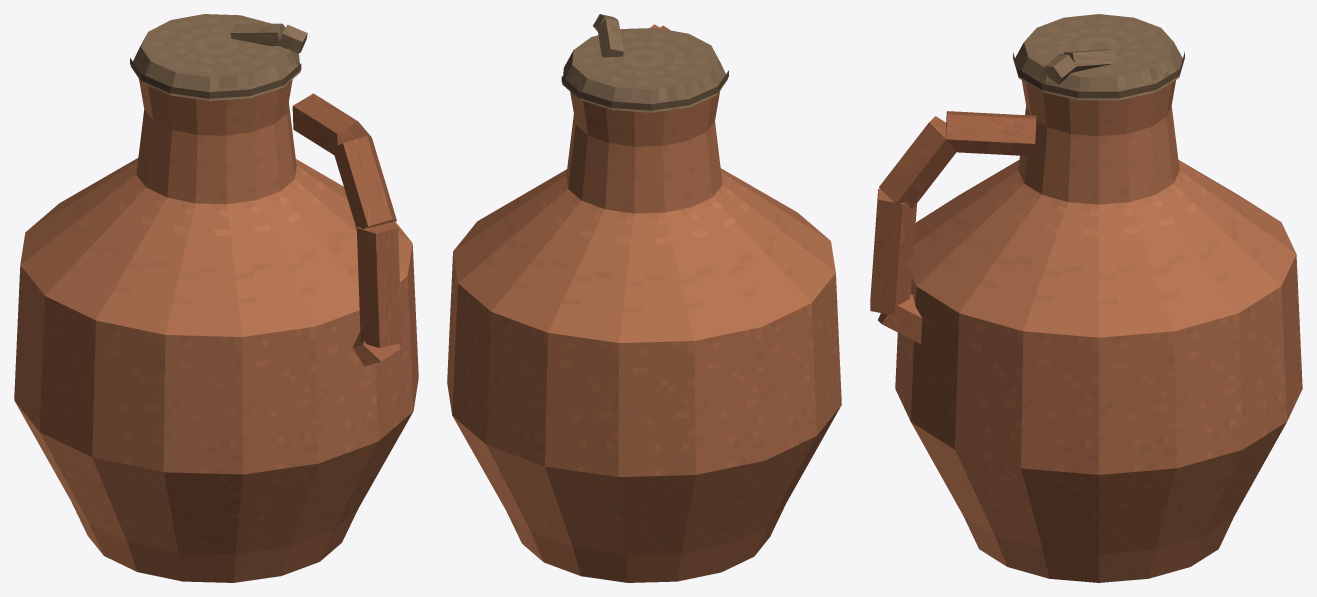
The model's file is jug_clay.glb.
3 renders of one model, left to right at view 1: azimuth 30°, elevation 25°; view 2: azimuth 150°, elevation 25°; view 3: azimuth 270°, elevation 25°, orthographic. The views are drawn at different scales.
Visible parts, largest first — view 1: block_thrown clay shoulders, block_tied waterproof hide cover, block_vertical pouring handle 2, block_vertical pouring handle 1, block_vertical pouring handle 0, block_hide binding cord, block_folded lid tab 0, block_vertical pouring handle 3, block_folded lid tab 1; view 2: block_thrown clay shoulders, block_tied waterproof hide cover, block_hide binding cord, block_folded lid tab 0; view 3: block_thrown clay shoulders, block_tied waterproof hide cover, block_vertical pouring handle 2, block_vertical pouring handle 0, block_vertical pouring handle 1, block_hide binding cord, block_vertical pouring handle 3, block_folded lid tab 0, block_folded lid tab 1.
Boxes of the visible parts, bbox=[...] form: block_thrown clay shoulders: bbox=[14, 79, 418, 582]; block_tied waterproof hide cover: bbox=[130, 14, 300, 100]; block_vertical pouring handle 2: bbox=[356, 222, 401, 348]; block_vertical pouring handle 1: bbox=[334, 136, 396, 229]; block_vertical pouring handle 0: bbox=[292, 93, 371, 157]; block_hide binding cord: bbox=[130, 58, 301, 98]; block_folded lid tab 0: bbox=[230, 23, 285, 45]; block_vertical pouring handle 3: bbox=[352, 331, 400, 366]; block_folded lid tab 1: bbox=[278, 24, 307, 53]; block_thrown clay shoulders: bbox=[447, 91, 841, 582]; block_tied waterproof hide cover: bbox=[562, 28, 727, 112]; block_hide binding cord: bbox=[561, 70, 728, 110]; block_folded lid tab 0: bbox=[597, 18, 623, 57]; block_thrown clay shoulders: bbox=[895, 80, 1302, 582]; block_tied waterproof hide cover: bbox=[1015, 14, 1182, 100]; block_vertical pouring handle 2: bbox=[870, 188, 916, 315]; block_vertical pouring handle 0: bbox=[946, 111, 1036, 156]; block_vertical pouring handle 1: bbox=[879, 116, 956, 208]; block_hide binding cord: bbox=[1013, 52, 1184, 98]; block_vertical pouring handle 3: bbox=[878, 294, 922, 343]; block_folded lid tab 0: bbox=[1064, 49, 1117, 72]; block_folded lid tab 1: bbox=[1045, 54, 1076, 84].
Size of the model in its own units: 0.1253 by 0.17 by 0.133.
1 material, 1 textured.
